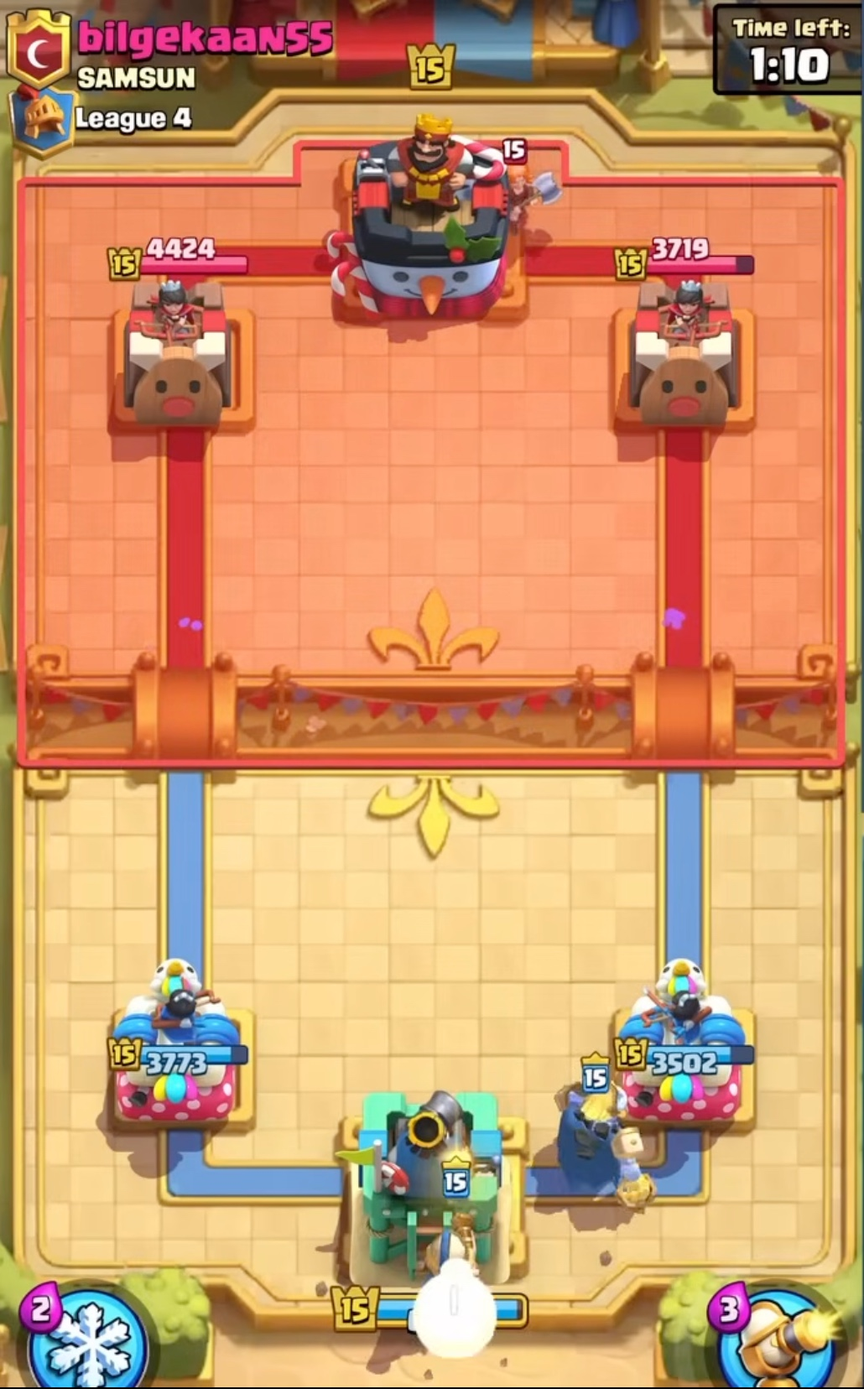hero-ice-golem: (547, 1044, 659, 1226)
hero-musketeer: (417, 1162, 500, 1370)
